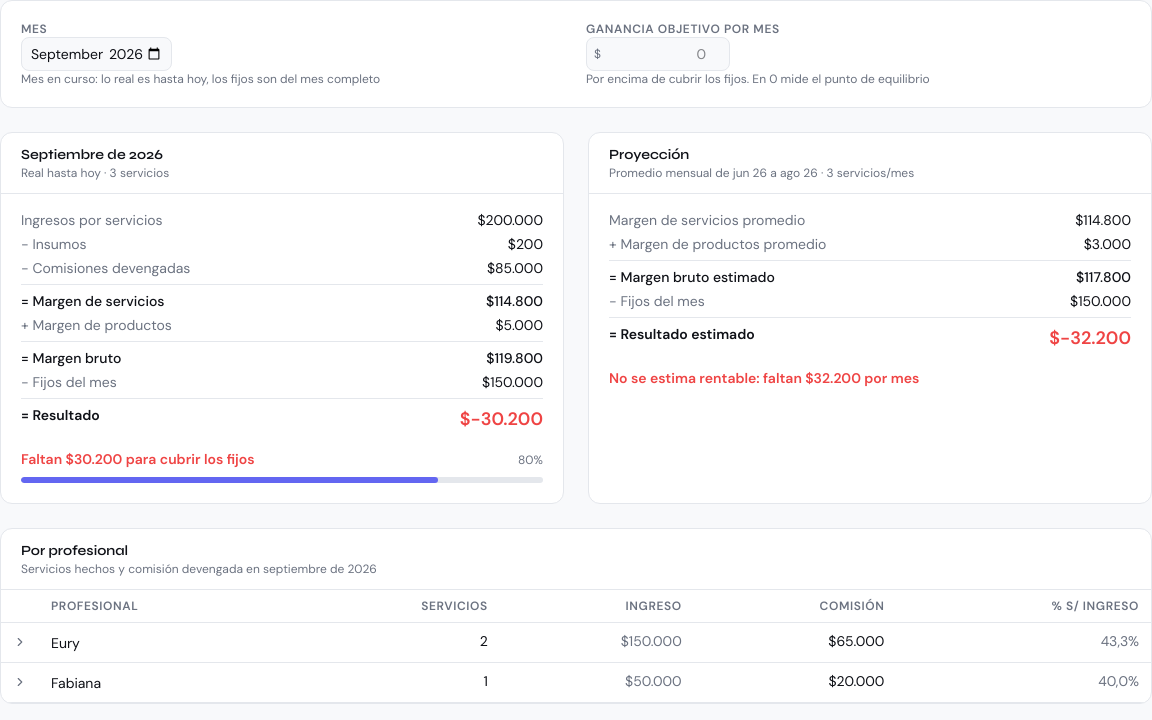
Test: ProfitabilityTab › switches to a closed month and handles months without sales
Replace the text in the field named "Mes" with "2026-08": coordinates (96, 54) top-left (21, 37), bottom-right (172, 71)
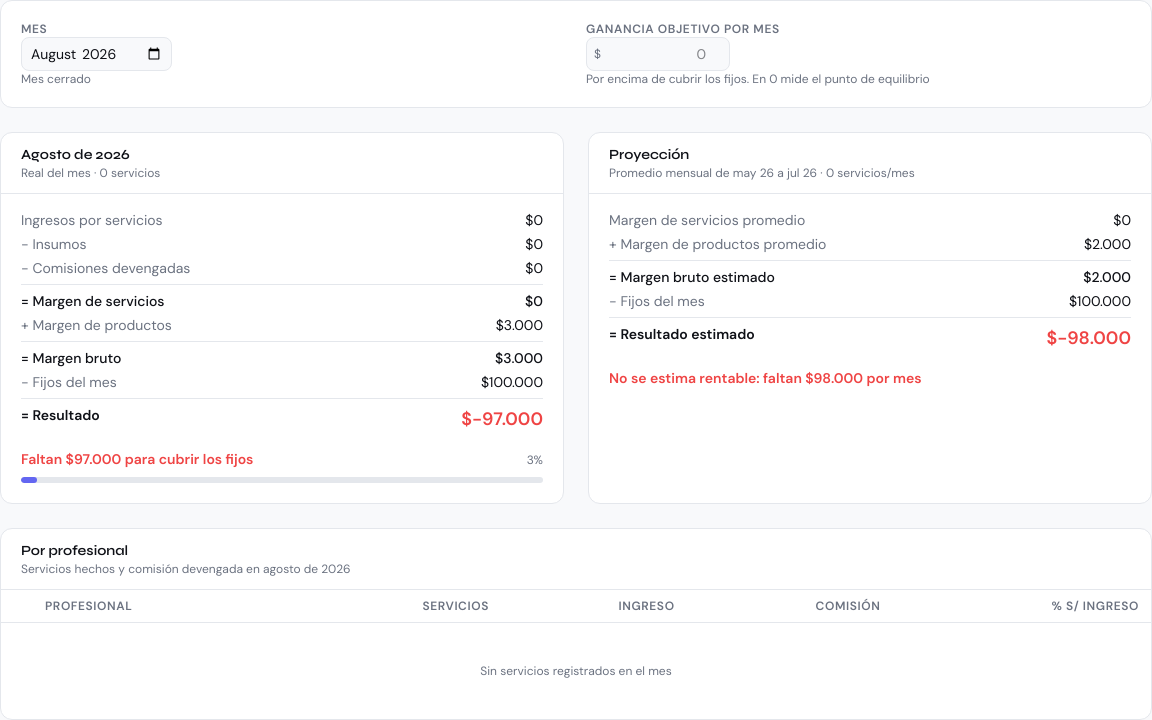
Expected: the heading "Agosto de 2026" is shown, top-left (21, 146), bottom-right (130, 163)
Expected: the text "Mes cerrado" is shown, top-left (21, 71), bottom-right (91, 87)
Expected: the text "Sin servicios registrados en el mes" is shown, top-left (1, 622), bottom-right (1151, 719)
